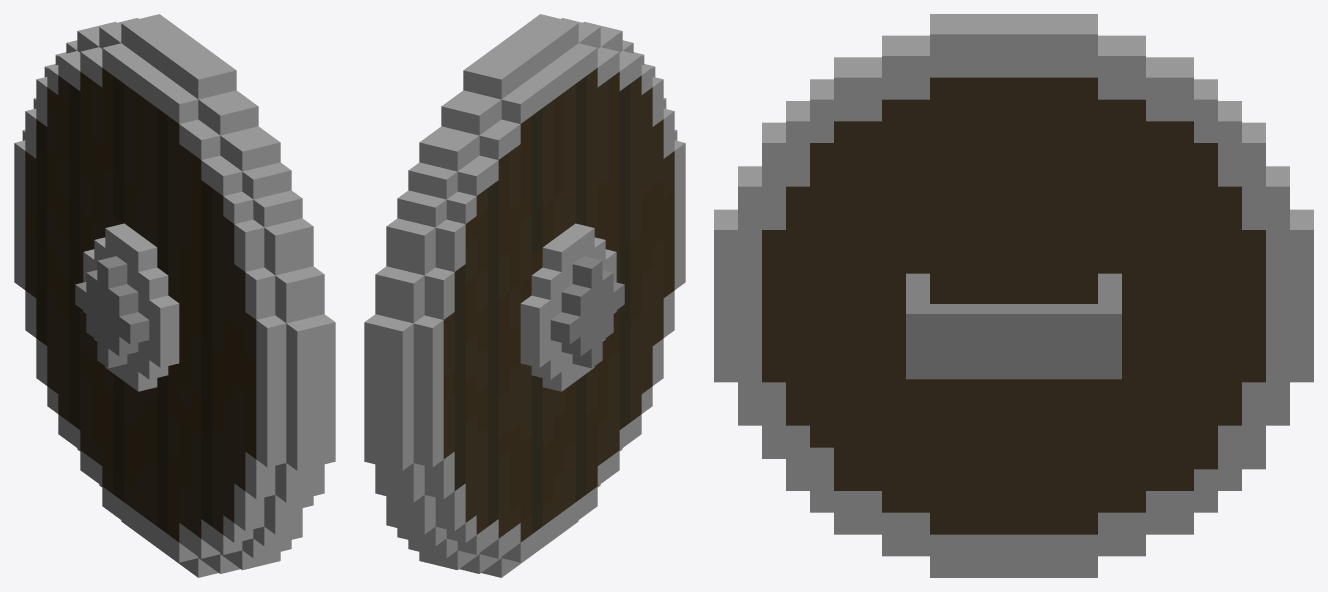
The model's file is bangpe.obj.
3 renders of one model, left to right at view 1: azimuth 30°, elevation 25°; view 2: azimuth 150°, elevation 25°; view 3: azimuth 270°, elevation 25°, orthographic. The views are drawn at different scales.
Bounding box in the file's own units: 0.9 × 2.5 × 2.5.
Materials: 1 (1 with a texture image).
